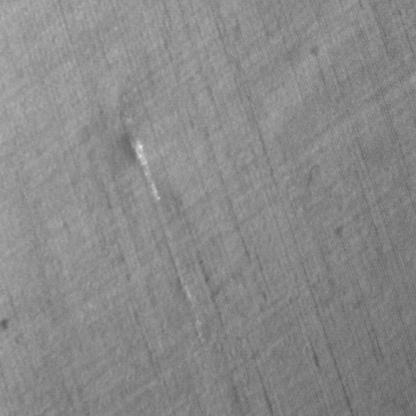thread error: (118, 90, 204, 337)
